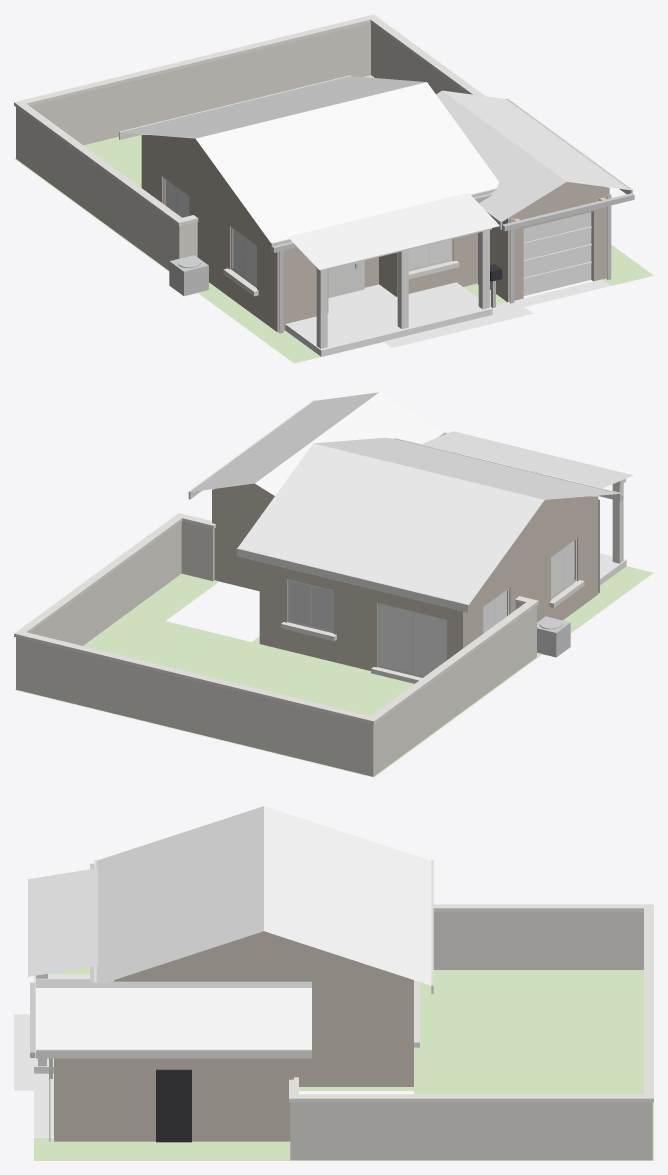
File: house_ranch46.glb
3 renders of one model, top to bottom at view 1: azimuth 30°, elevation 25°; view 2: azimuth 150°, elevation 25°; view 3: azimuth 270°, elevation 25°, orthographic. The views are drawn at different scales.
Parts seen in each view (by area): view 1: house_ranch46_Roof, house_ranch46_Walls2, house_ranch46_Walls, house_ranch46_Trim, house_ranch46_Site, house_ranch46_Lawn, house_ranch46_Doors, house_ranch46_Details, house_ranch46_Glass, house_ranch46_Frames; view 2: house_ranch46_Roof, house_ranch46_Walls2, house_ranch46_Walls, house_ranch46_Lawn, house_ranch46_Trim, house_ranch46_Glass, house_ranch46_WindowsLit, house_ranch46_Frames, house_ranch46_Details; view 3: house_ranch46_Roof, house_ranch46_Walls, house_ranch46_Lawn, house_ranch46_Walls2, house_ranch46_Trim, house_ranch46_Site, house_ranch46_Accent, house_ranch46_Details.
Boxes of the visible parts, bbox=[...] form: house_ranch46_Roof: bbox=[120, 76, 630, 269]; house_ranch46_Walls2: bbox=[16, 23, 466, 270]; house_ranch46_Walls: bbox=[141, 135, 609, 332]; house_ranch46_Trim: bbox=[14, 14, 632, 348]; house_ranch46_Site: bbox=[285, 279, 610, 356]; house_ranch46_Lawn: bbox=[14, 75, 653, 363]; house_ranch46_Doors: bbox=[523, 212, 591, 295]; house_ranch46_Details: bbox=[169, 193, 634, 333]; house_ranch46_Glass: bbox=[165, 180, 450, 285]; house_ranch46_Frames: bbox=[163, 177, 452, 298]; house_ranch46_Roof: bbox=[191, 392, 633, 604]; house_ranch46_Walls2: bbox=[16, 521, 536, 776]; house_ranch46_Walls: bbox=[212, 483, 598, 670]; house_ranch46_Lawn: bbox=[14, 566, 653, 777]; house_ranch46_Trim: bbox=[14, 400, 625, 724]; house_ranch46_Glass: bbox=[379, 541, 574, 675]; house_ranch46_WindowsLit: bbox=[289, 581, 332, 630]; house_ranch46_Frames: bbox=[287, 538, 576, 677]; house_ranch46_Details: bbox=[445, 433, 623, 657]; house_ranch46_Roof: bbox=[28, 806, 431, 1049]; house_ranch46_Walls: bbox=[54, 931, 413, 1141]; house_ranch46_Lawn: bbox=[34, 967, 653, 1160]; house_ranch46_Walls2: bbox=[290, 912, 652, 1160]; house_ranch46_Trim: bbox=[36, 860, 653, 1102]; house_ranch46_Site: bbox=[14, 974, 89, 1137]; house_ranch46_Accent: bbox=[156, 1069, 191, 1142]; house_ranch46_Details: bbox=[30, 863, 94, 1141].
Bounding box in the file's own units: 47.72 × 18.05 × 64.
